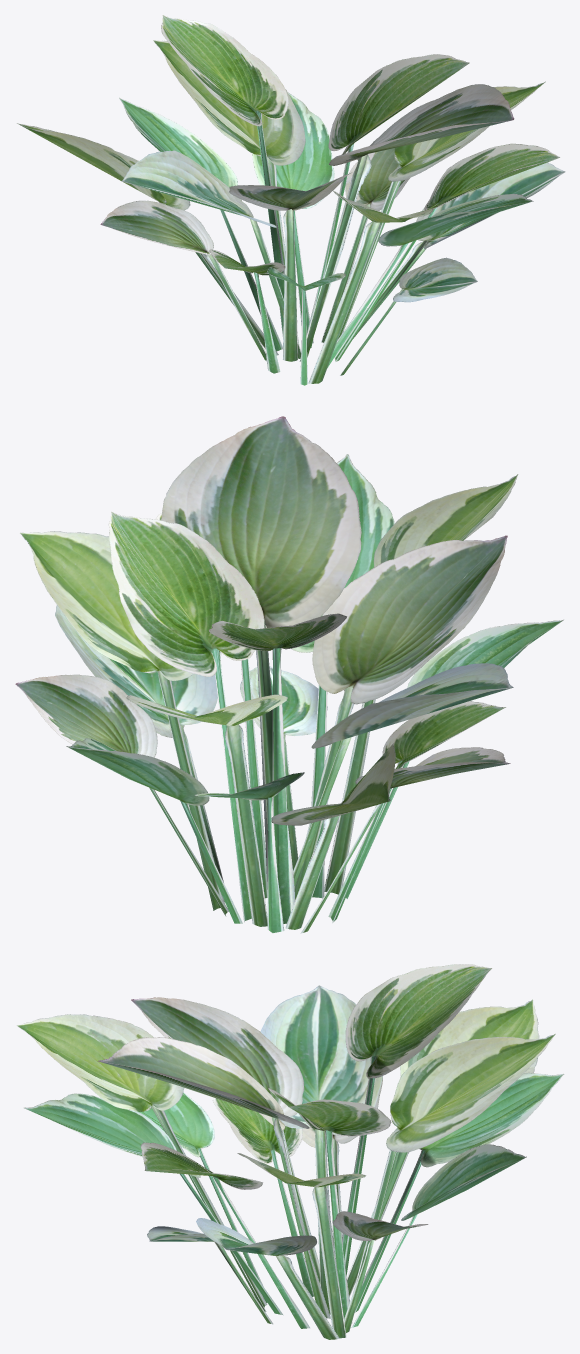
File: plant_small_wg_00T_wild.fbx
3 views of the same model, one above another, from view 1: azimuth 30°, elevation 25°; view 2: azimuth 150°, elevation 25°; view 3: azimuth 270°, elevation 25° (orthographic). The views are drawn at different scales.
Parts seen in each view (by area): view 1: plant_small_wg_00T_wild; view 2: plant_small_wg_00T_wild; view 3: plant_small_wg_00T_wild.
Boxes of the visible parts, x1,y1,x2,y2 form: plant_small_wg_00T_wild: [17, 15, 565, 385]; plant_small_wg_00T_wild: [15, 416, 563, 933]; plant_small_wg_00T_wild: [16, 964, 564, 1339].
Bounding box in the file's own units: 80.66 × 55.01 × 86.82.
